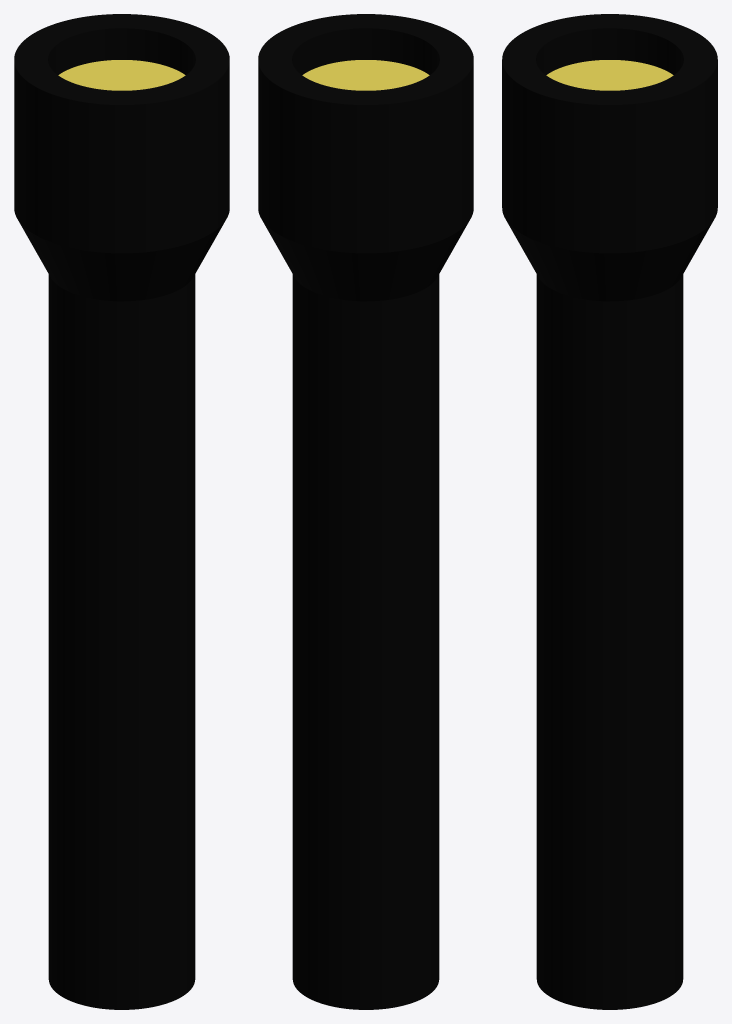
The model's file is flashlight.fbx.
3 renders of one model, left to right at view 1: azimuth 30°, elevation 25°; view 2: azimuth 150°, elevation 25°; view 3: azimuth 270°, elevation 25°, orthographic.
Parts seen in each view (by area): view 1: Cylinder.001; view 2: Cylinder.001; view 3: Cylinder.001.
Boxes of the visible parts, x1,y1,x2,y2 form: Cylinder.001: [14, 14, 229, 1009]; Cylinder.001: [258, 14, 473, 1009]; Cylinder.001: [502, 14, 717, 1009].
Bounding box in the file's own units: 6.75 × 31.73 × 6.75.
